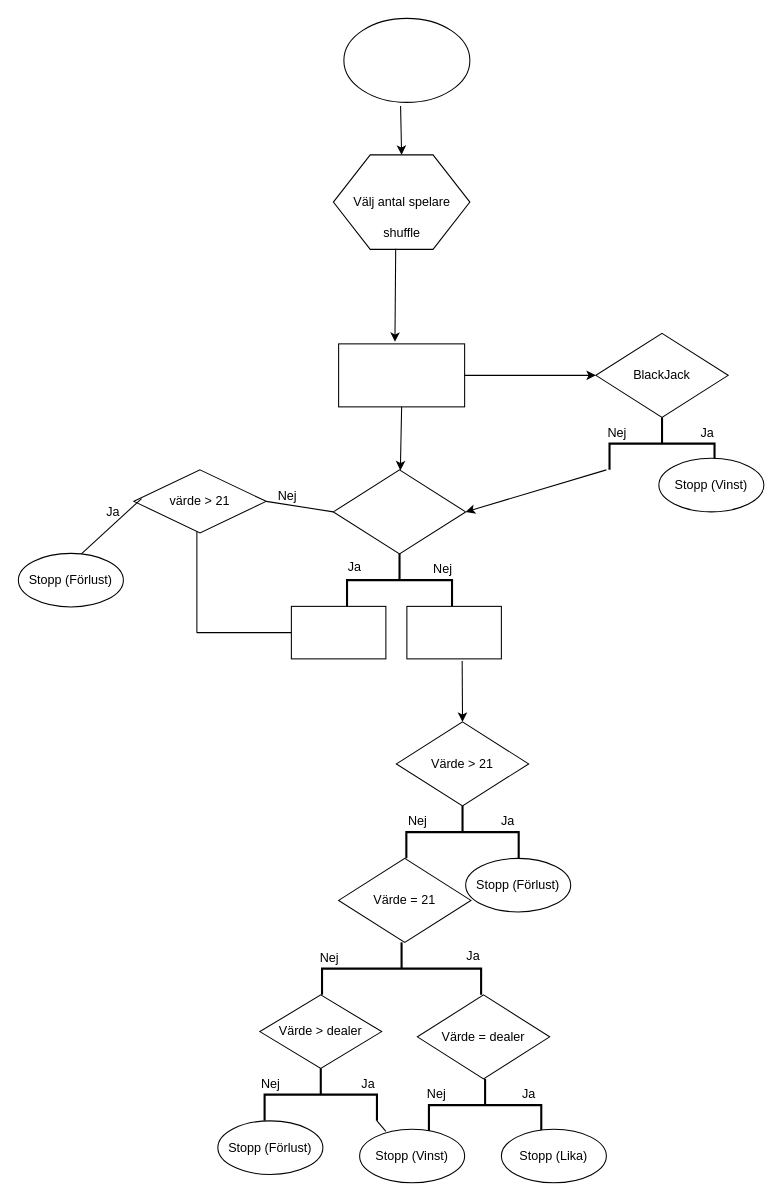
Some shapes in this 782 by 1201 pixel diagram are drawn without their labels. Each missing label, with the centre of its shape:
"Dela ut kort" belongs at point 338,632.
"Dela ut kort Räkna ut kortvärden" belongs at point 401,375.
"Räkna kortens värde" belongs at point 453,632.
"Start" belongs at point 406,59.
"Ta kort" belongs at point 399,511.
